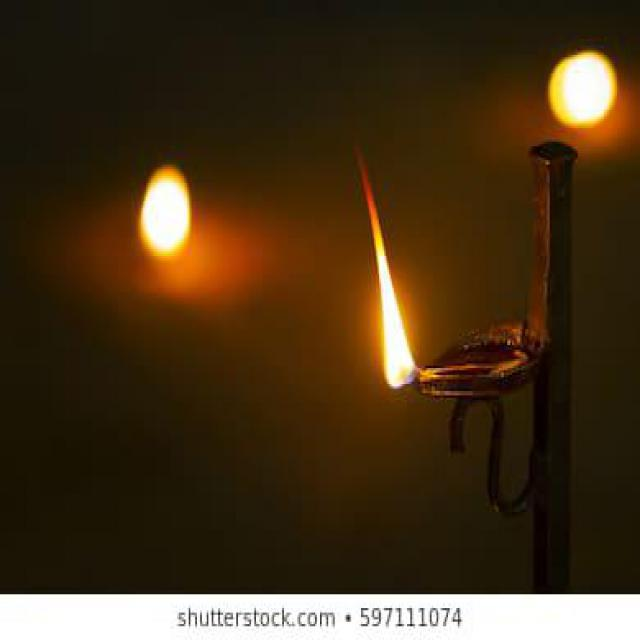Fire: (355, 150, 418, 388)
